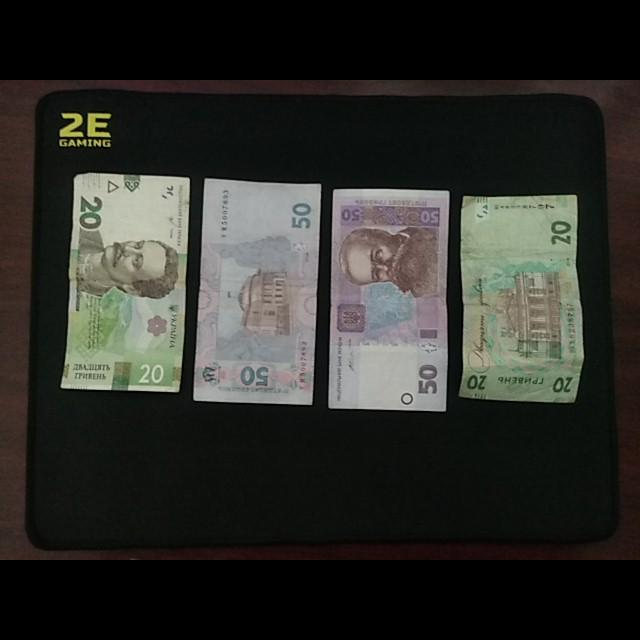20uah: (59, 172, 189, 394), (461, 196, 582, 402)
50uah: (200, 173, 316, 407), (332, 190, 448, 414)
